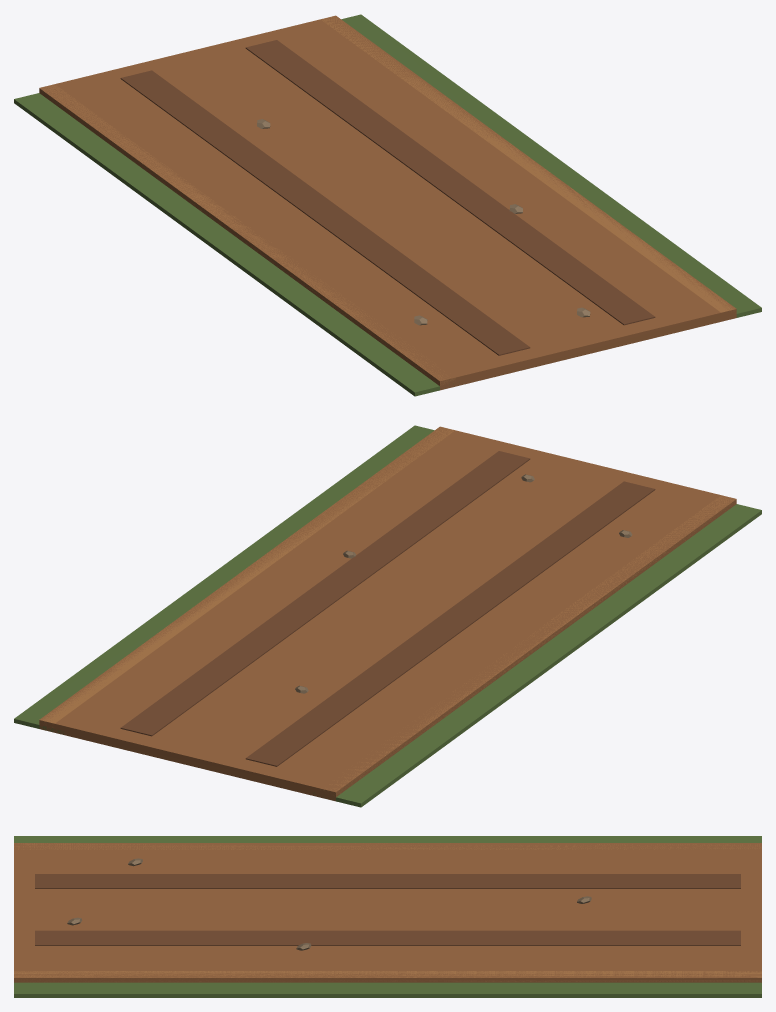
Rendered from dirt-path.source.glb.
3 views of the same model, one above another, from view 1: azimuth 30°, elevation 25°; view 2: azimuth 150°, elevation 25°; view 3: azimuth 270°, elevation 25° (orthographic). The views are drawn at different scales.
Visible parts, largest first — view 1: dirt-path-compacted-earth-center-mesh, dirt-path-shallow-wheel-rut-left-mesh, dirt-path-shallow-wheel-rut-right-mesh, dirt-path-grass-wedge-left-mesh, dirt-path-grass-wedge-right-mesh, dirt-path-loose-earth-edge-right-mesh, dirt-path-loose-earth-edge-left-mesh; view 2: dirt-path-compacted-earth-center-mesh, dirt-path-shallow-wheel-rut-left-mesh, dirt-path-shallow-wheel-rut-right-mesh, dirt-path-grass-wedge-left-mesh, dirt-path-grass-wedge-right-mesh, dirt-path-loose-earth-edge-right-mesh, dirt-path-loose-earth-edge-left-mesh; view 3: dirt-path-compacted-earth-center-mesh, dirt-path-grass-wedge-right-mesh, dirt-path-shallow-wheel-rut-right-mesh, dirt-path-shallow-wheel-rut-left-mesh, dirt-path-grass-wedge-left-mesh, dirt-path-loose-earth-edge-right-mesh, dirt-path-loose-earth-edge-left-mesh.
Boxes of the visible parts, x1,y1,x2,y2 form: dirt-path-compacted-earth-center-mesh: (39, 15, 736, 390); dirt-path-shallow-wheel-rut-left-mesh: (120, 70, 530, 355); dirt-path-shallow-wheel-rut-right-mesh: (245, 40, 655, 325); dirt-path-grass-wedge-left-mesh: (14, 93, 453, 396); dirt-path-grass-wedge-right-mesh: (341, 14, 761, 317); dirt-path-loose-earth-edge-right-mesh: (321, 16, 734, 312); dirt-path-loose-earth-edge-left-mesh: (39, 84, 455, 385); dirt-path-compacted-earth-center-mesh: (39, 426, 736, 801); dirt-path-shallow-wheel-rut-left-mesh: (245, 481, 655, 766); dirt-path-shallow-wheel-rut-right-mesh: (120, 451, 530, 736); dirt-path-grass-wedge-left-mesh: (313, 504, 761, 807); dirt-path-grass-wedge-right-mesh: (14, 425, 434, 734); dirt-path-loose-earth-edge-right-mesh: (39, 427, 454, 727); dirt-path-loose-earth-edge-left-mesh: (320, 496, 735, 796); dirt-path-compacted-earth-center-mesh: (14, 843, 761, 982); dirt-path-grass-wedge-right-mesh: (14, 982, 761, 997); dirt-path-shallow-wheel-rut-right-mesh: (35, 930, 740, 945); dirt-path-shallow-wheel-rut-left-mesh: (35, 874, 740, 888); dirt-path-grass-wedge-left-mesh: (14, 836, 761, 842); dirt-path-loose-earth-edge-right-mesh: (14, 971, 761, 982); dirt-path-loose-earth-edge-left-mesh: (14, 843, 760, 849).
Bounding box in the file's own units: 4 × 0.151 × 8.
